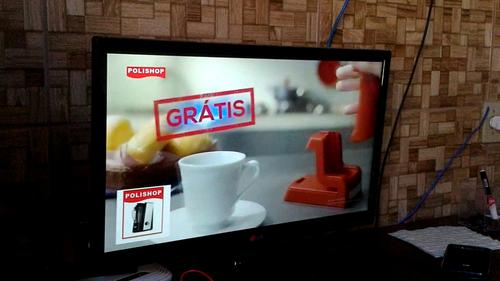Polishop #1: (114, 184, 169, 244)
